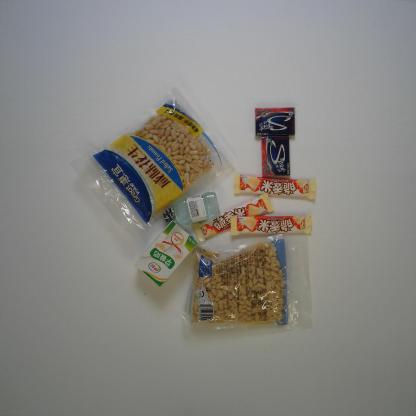Chocolate: (193, 192, 275, 242), (233, 174, 316, 200), (230, 214, 312, 235)
Dried Fruit: (76, 85, 238, 231), (181, 232, 313, 331)
Gum: (260, 135, 291, 178), (254, 106, 295, 136)
Milk: (134, 220, 199, 288)
Personal Hygiene: (162, 191, 222, 227)
